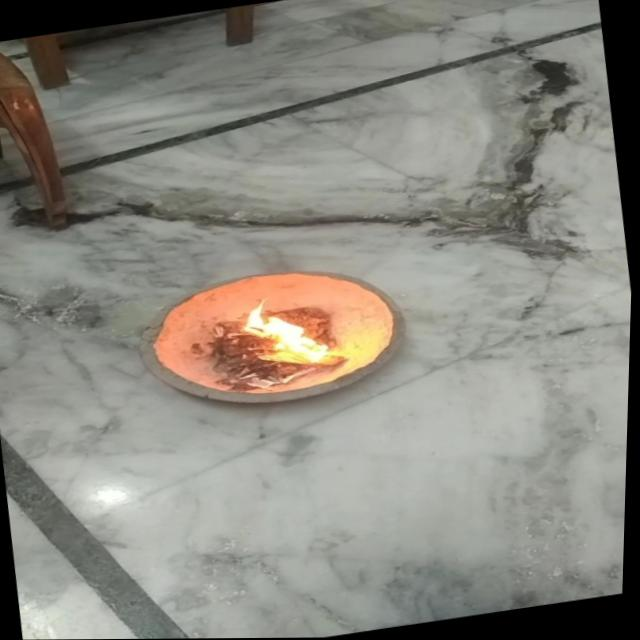fire: (236, 291, 351, 376)
